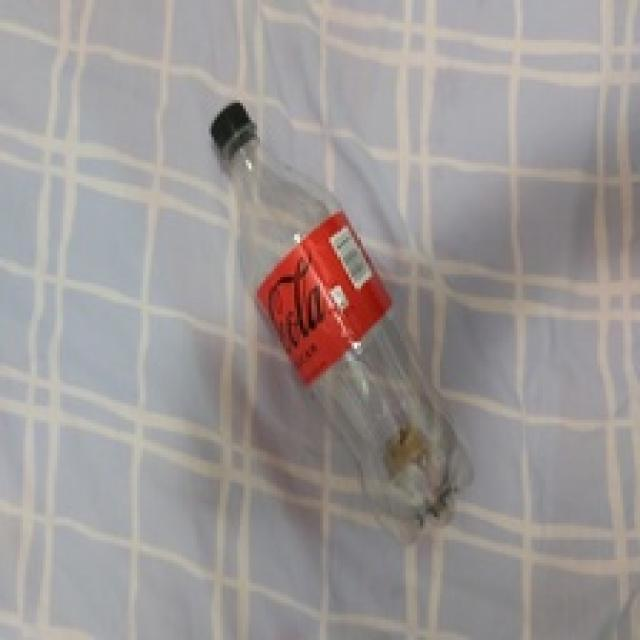Plastic: (205, 96, 475, 544)
